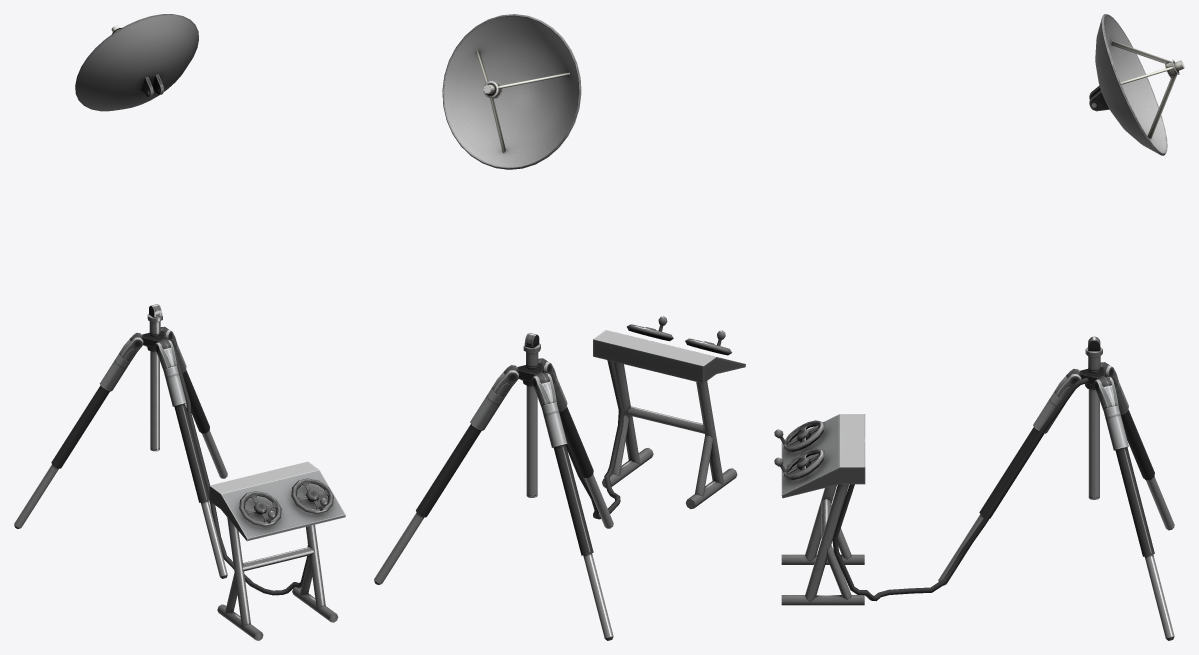
File: satellite_dish.dae
3 renders of one model, left to right at view 1: azimuth 30°, elevation 25°; view 2: azimuth 150°, elevation 25°; view 3: azimuth 270°, elevation 25°, orthographic. The views are drawn at different scales.
Visible parts, largest first — view 1: Base, Dish, Wheel_01, Wheel_02; view 2: Base, Dish; view 3: Base, Dish, Wheel_01, Wheel_02.
Boxes of the visible parts, <box> form: Base: <box>14,313,345,640</box>; Dish: <box>75,14,198,111</box>; Wheel_01: <box>239,491,281,526</box>; Wheel_02: <box>291,478,333,513</box>; Base: <box>374,330,745,640</box>; Dish: <box>442,14,581,169</box>; Base: <box>781,347,1174,640</box>; Dish: <box>1089,14,1184,155</box>; Wheel_01: <box>774,420,824,451</box>; Wheel_02: <box>774,448,824,479</box>.
Bounding box in the file's own units: 1619 × 2448 × 3712.
